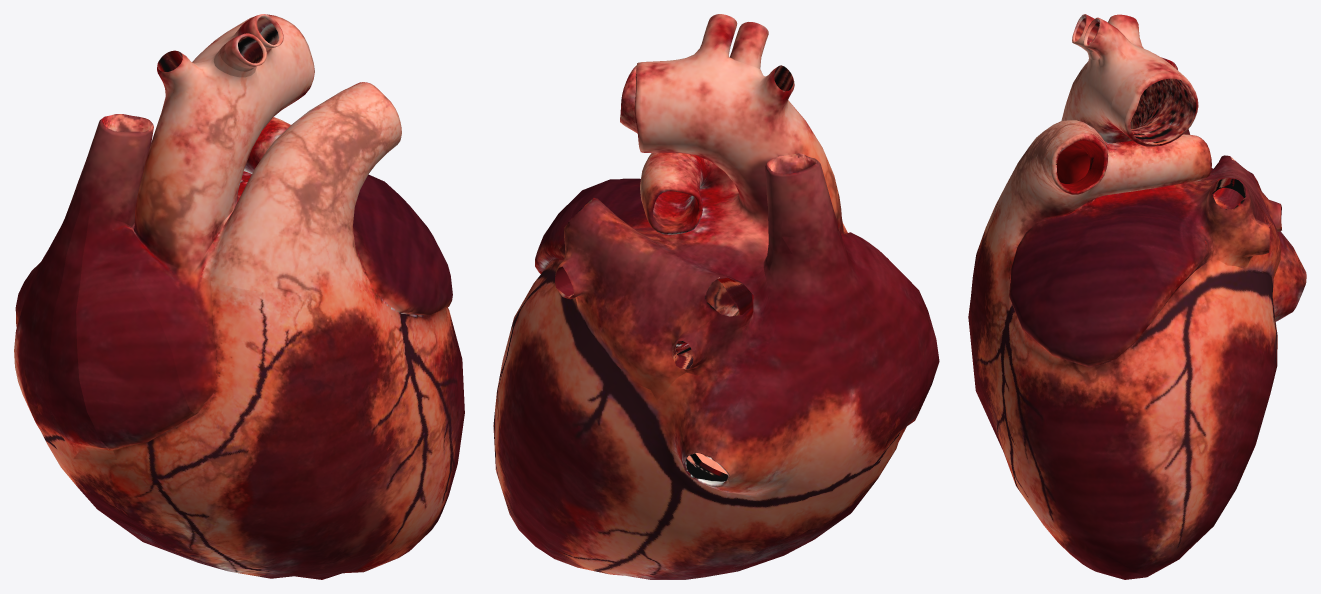
Rendered from Heart.FBX.
The picture shows the model from 3 angles, left to right: view 1: azimuth 30°, elevation 25°; view 2: azimuth 150°, elevation 25°; view 3: azimuth 270°, elevation 25°; orthographic projection. The views are drawn at different scales.
Parts seen in each view (by area): view 1: Heart, clapan; view 2: Heart, clapan, 1; view 3: Heart, clapan.
Part boxes in pixels (x1=…): Heart: x1=14, y1=14, x2=464, y2=579; clapan: x1=157, y1=17, x2=278, y2=71; Heart: x1=493, y1=14, x2=939, y2=579; clapan: x1=555, y1=65, x2=793, y2=369; 1: x1=676, y1=279, x2=738, y2=474; Heart: x1=968, y1=14, x2=1306, y2=579; clapan: x1=1075, y1=17, x2=1281, y2=228.
Bounding box in the file's own units: 6.85 × 9.24 × 5.65.
